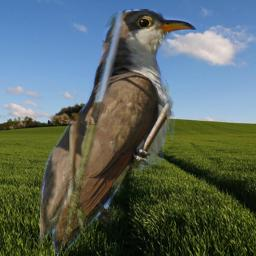Cuckoo: (40, 9, 235, 254)
